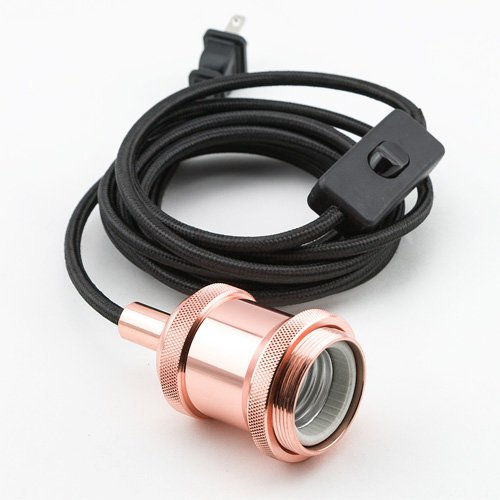Nonrec_Tangler: (38, 11, 460, 454)
